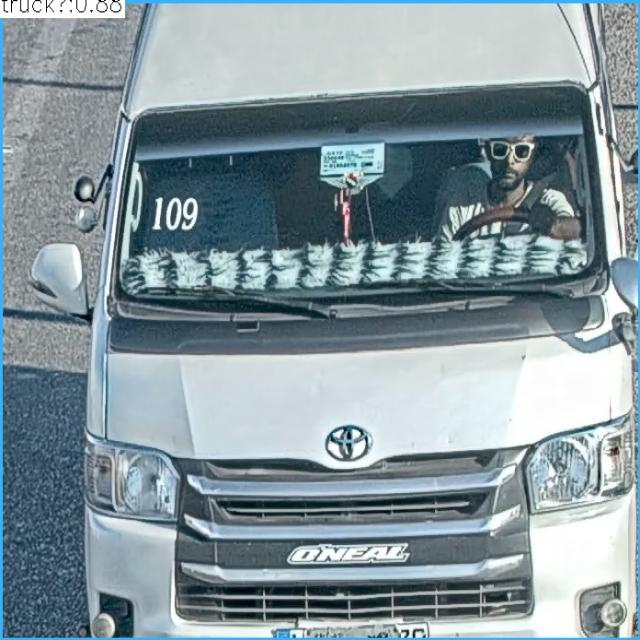windshield: (116, 88, 601, 328)
